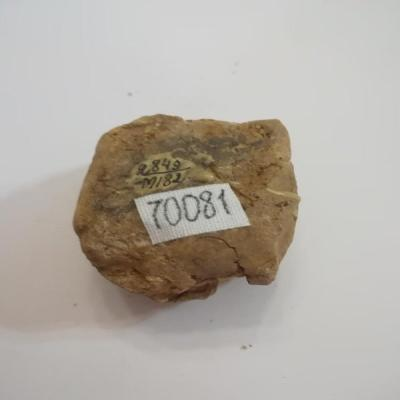mineralogy: (73, 114, 301, 305)
